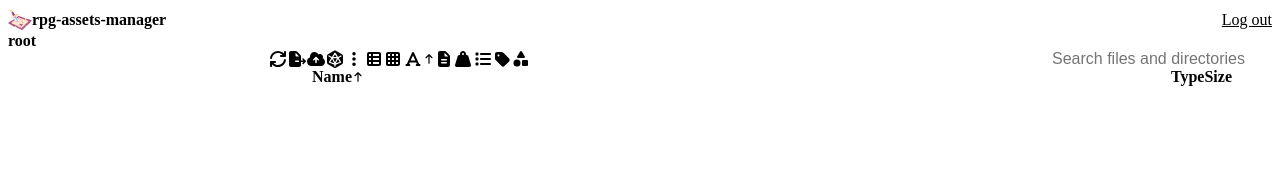
it: App › logs out and returns to the login form when Log out is clicked
Click the button "Log out" at [1247, 20], box [1222, 11, 1272, 29]
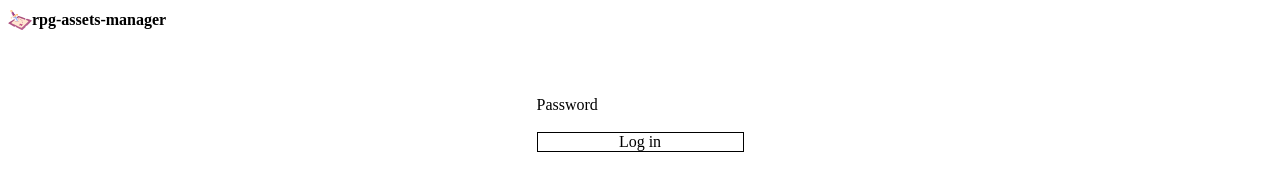
expect the password field labelled "Password" is shown: met, box [536, 114, 744, 132]
